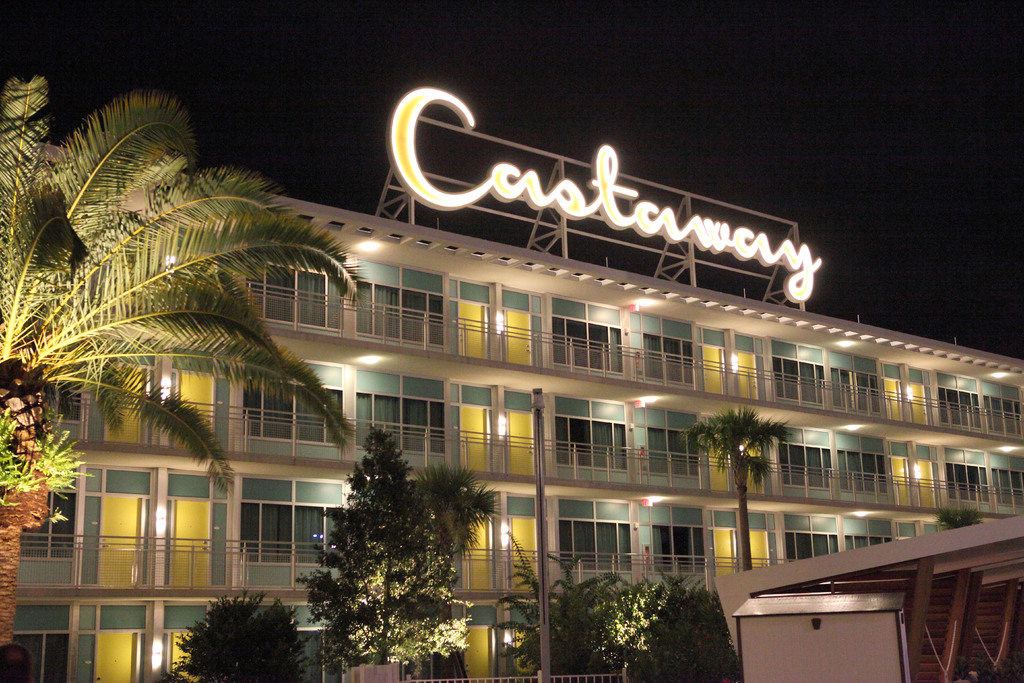Tree: (0, 68, 355, 650), (302, 424, 474, 676), (682, 406, 794, 570), (166, 586, 302, 682)
